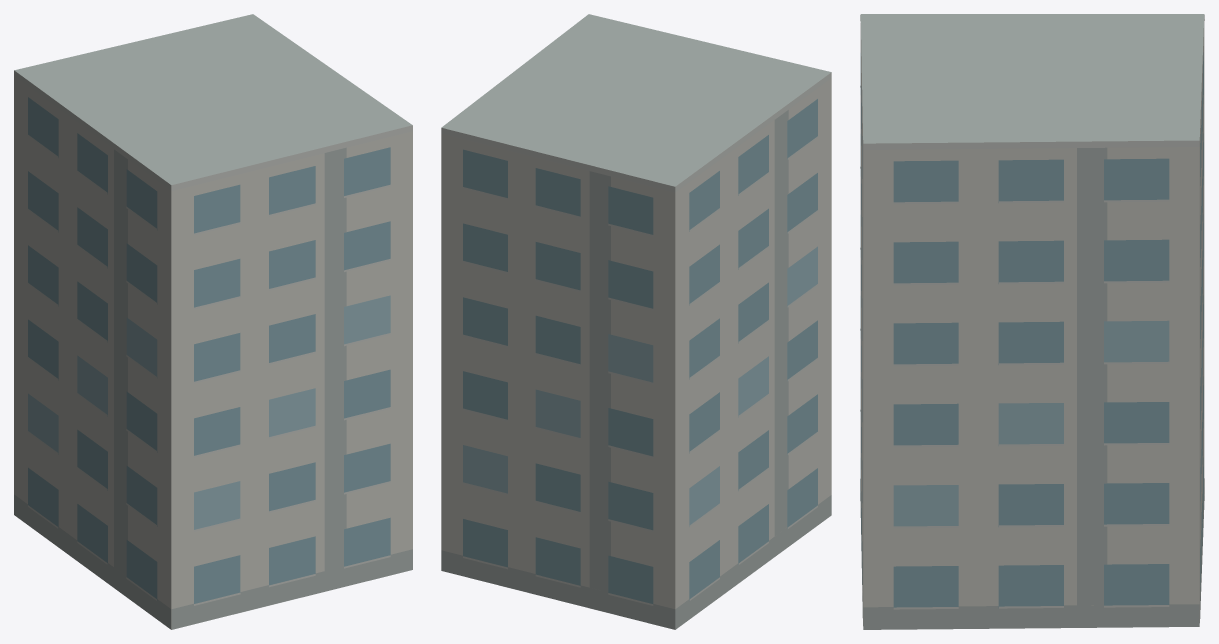
The model's file is survey-upis-32820184.glb.
3 views of the same model, side by side, from view 1: azimuth 30°, elevation 25°; view 2: azimuth 150°, elevation 25°; view 3: azimuth 270°, elevation 25° (orthographic). The views are drawn at different scales.
Visible parts, largest first — view 1: survey-upis-32820184.tmp; view 2: survey-upis-32820184.tmp; view 3: survey-upis-32820184.tmp.
Part boxes in pixels (x1=…): survey-upis-32820184.tmp: x1=14, y1=14, x2=412, y2=629; survey-upis-32820184.tmp: x1=441, y1=14, x2=831, y2=629; survey-upis-32820184.tmp: x1=860, y1=14, x2=1204, y2=629.
Bounding box in the file's own units: 10.47 × 18.3 × 11.73.
